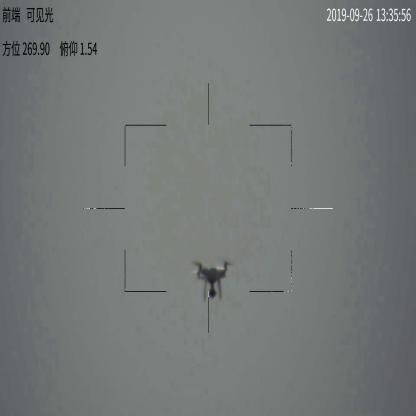uav: (190, 260, 232, 301)
